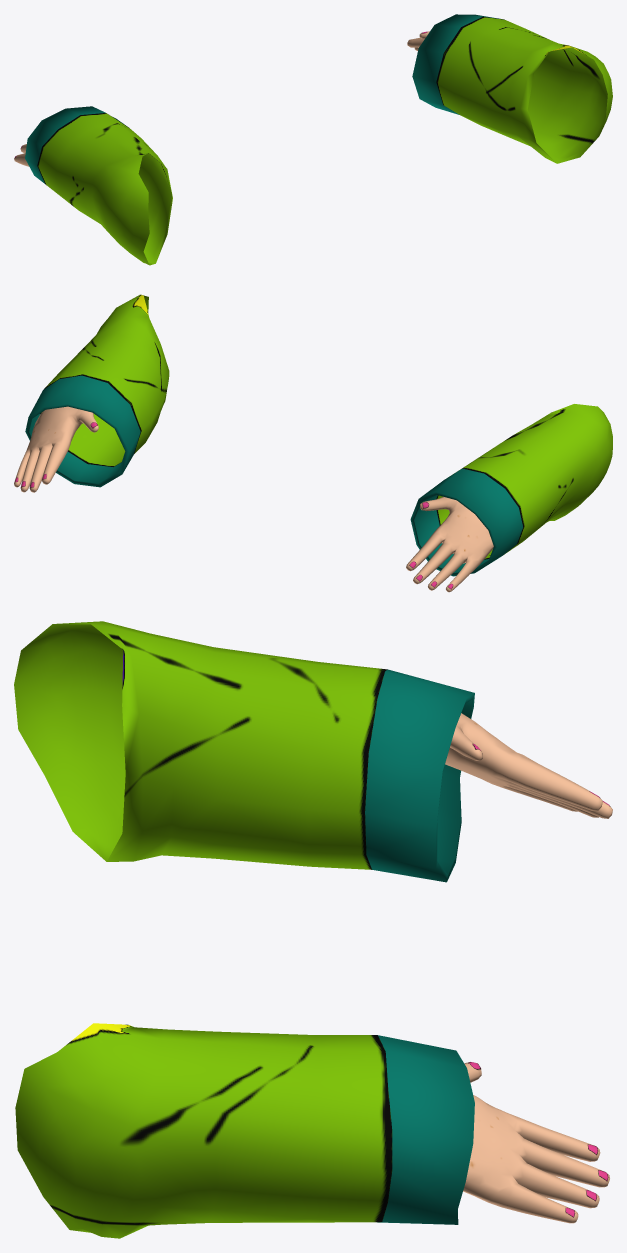
File: cd_hands 1.fbx
The picture shows the model from 3 angles, top to bottom: view 1: azimuth 30°, elevation 25°; view 2: azimuth 150°, elevation 25°; view 3: azimuth 270°, elevation 25°; orthographic projection. The views are drawn at different scales.
Parts seen in each view (by area): view 1: Body, Body.001; view 2: Body.001, Body; view 3: Body.001, Body.
Boxes of the visible parts, x1,y1,x2,y2 form: Body: (407,14,612,163); Body.001: (14,106,172,265); Body.001: (406,404,612,592); Body: (14,294,169,492); Body.001: (14,621,612,882); Body: (15,1023,609,1238).
Bounding box in the file's own units: 885 × 200 × 474.
